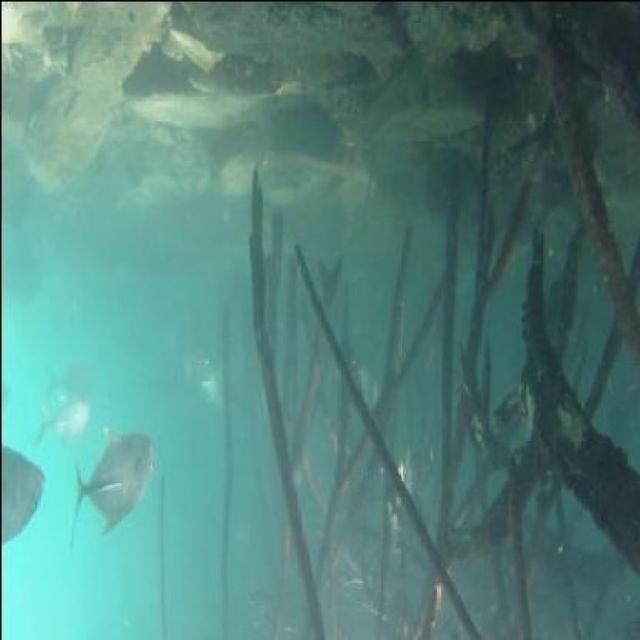Caranx_sexfasciatus_juvenile: (68, 421, 154, 541), (0, 443, 46, 559), (183, 330, 239, 410), (26, 397, 94, 443), (44, 355, 102, 400), (395, 429, 434, 493), (382, 474, 418, 526)
